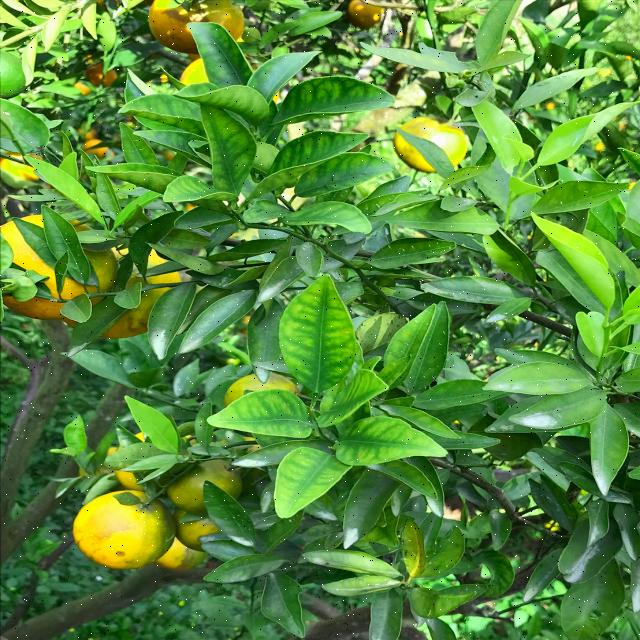greening: (280, 279, 356, 384), (266, 451, 344, 516), (194, 110, 255, 192), (212, 390, 310, 440), (338, 420, 449, 461)
